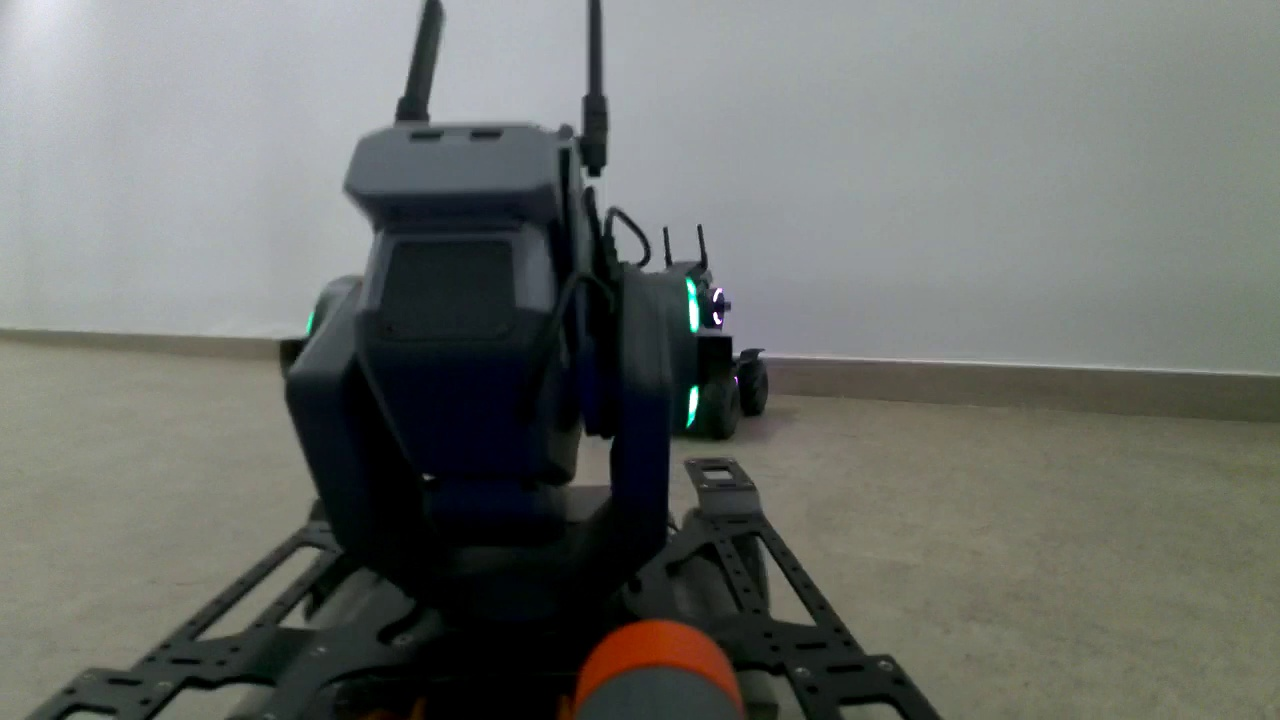robot: (279, 120, 665, 710)
